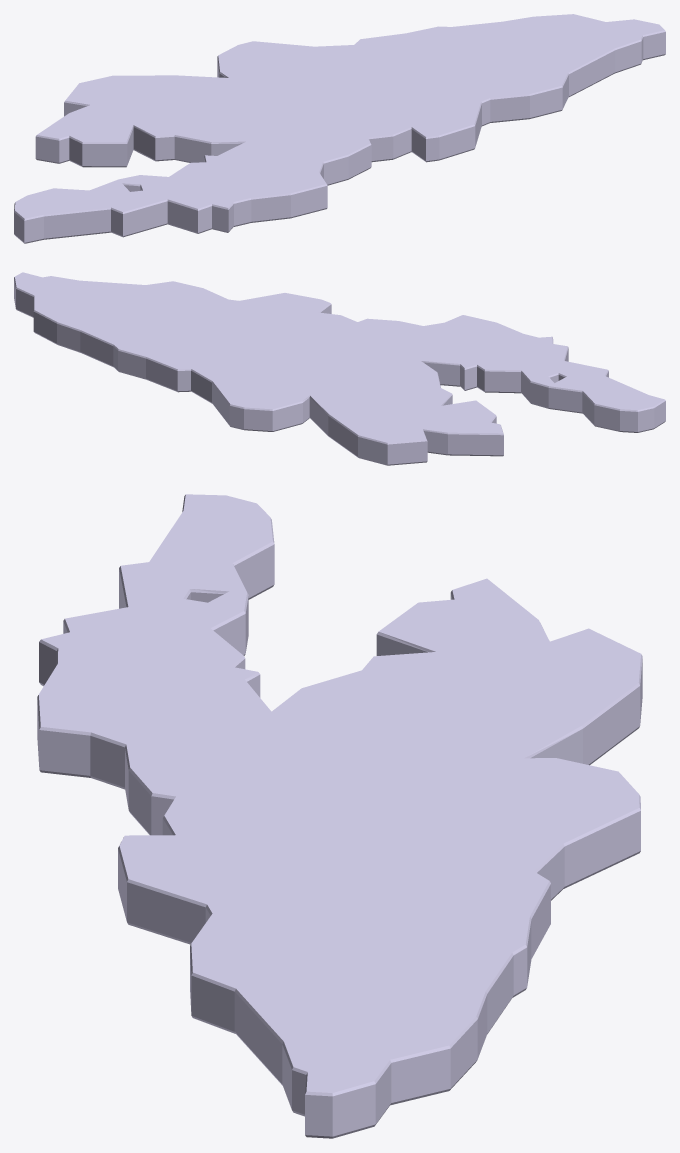
Rendered from KGZ.glb.
3 views of the same model, one above another, from view 1: azimuth 30°, elevation 25°; view 2: azimuth 150°, elevation 25°; view 3: azimuth 270°, elevation 25° (orthographic). The views are drawn at different scales.
Size of the model in its own units: 1.92 by 0.068 by 0.8183.
